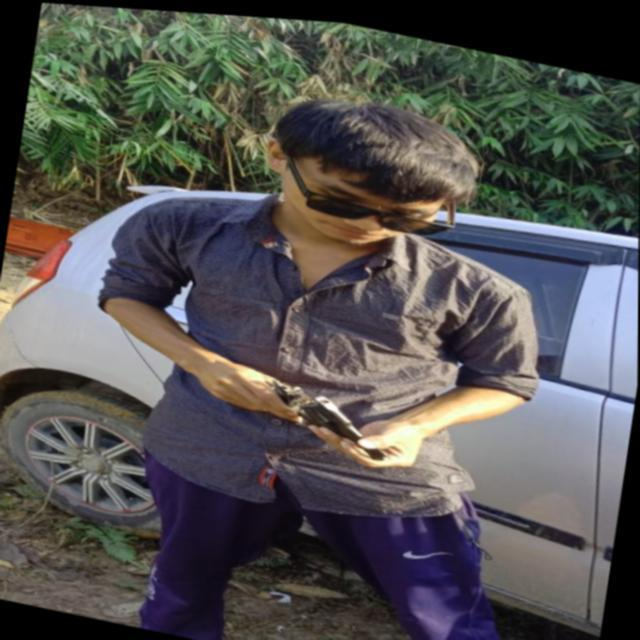weapon: (212, 364, 405, 464)
